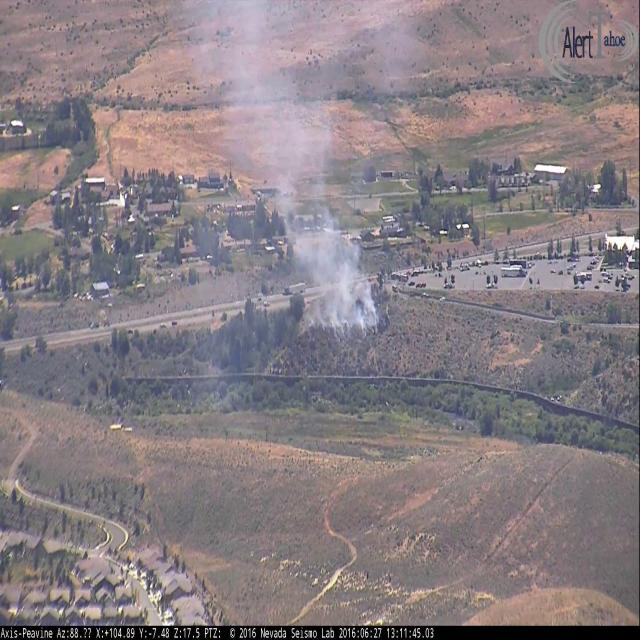smoke: (192, 0, 393, 346)
